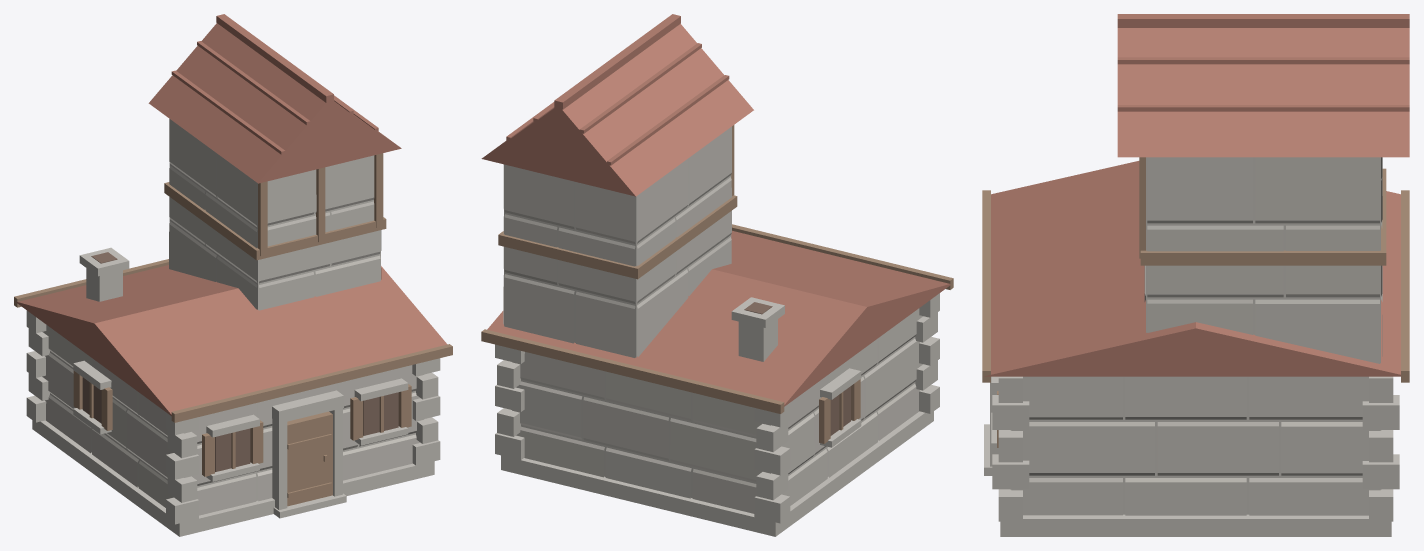
Rendered from stone-house-tower-loft.glb.
3 views of the same model, side by side, from view 1: azimuth 30°, elevation 25°; view 2: azimuth 150°, elevation 25°; view 3: azimuth 270°, elevation 25° (orthographic). The views are drawn at different scales.
Visible parts, largest first — view 1: stone-house-tower-loft_stone, stone-house-tower-loft_roof, stone-house-tower-loft_wood, stone-house-tower-loft_door, stone-house-tower-loft_window; view 2: stone-house-tower-loft_stone, stone-house-tower-loft_roof, stone-house-tower-loft_wood, stone-house-tower-loft_window; view 3: stone-house-tower-loft_stone, stone-house-tower-loft_roof, stone-house-tower-loft_wood.
Part boxes in pixels (left/top/right/bottom): stone-house-tower-loft_stone: left=26, top=119, right=440, bottom=536; stone-house-tower-loft_roof: left=14, top=14, right=447, bottom=415; stone-house-tower-loft_wood: left=14, top=153, right=452, bottom=476; stone-house-tower-loft_door: left=287, top=411, right=332, bottom=506; stone-house-tower-loft_window: left=82, top=252, right=398, bottom=471; stone-house-tower-loft_stone: left=495, top=126, right=939, bottom=536; stone-house-tower-loft_roof: left=481, top=14, right=950, bottom=408; stone-house-tower-loft_wood: left=481, top=125, right=953, bottom=443; stone-house-tower-loft_window: left=744, top=302, right=850, bottom=435; stone-house-tower-loft_stone: left=984, top=157, right=1399, bottom=536; stone-house-tower-loft_roof: left=984, top=14, right=1409, bottom=376; stone-house-tower-loft_wood: left=982, top=157, right=1409, bottom=447.
Size of the model in its own units: 2 by 2.49 by 2.
